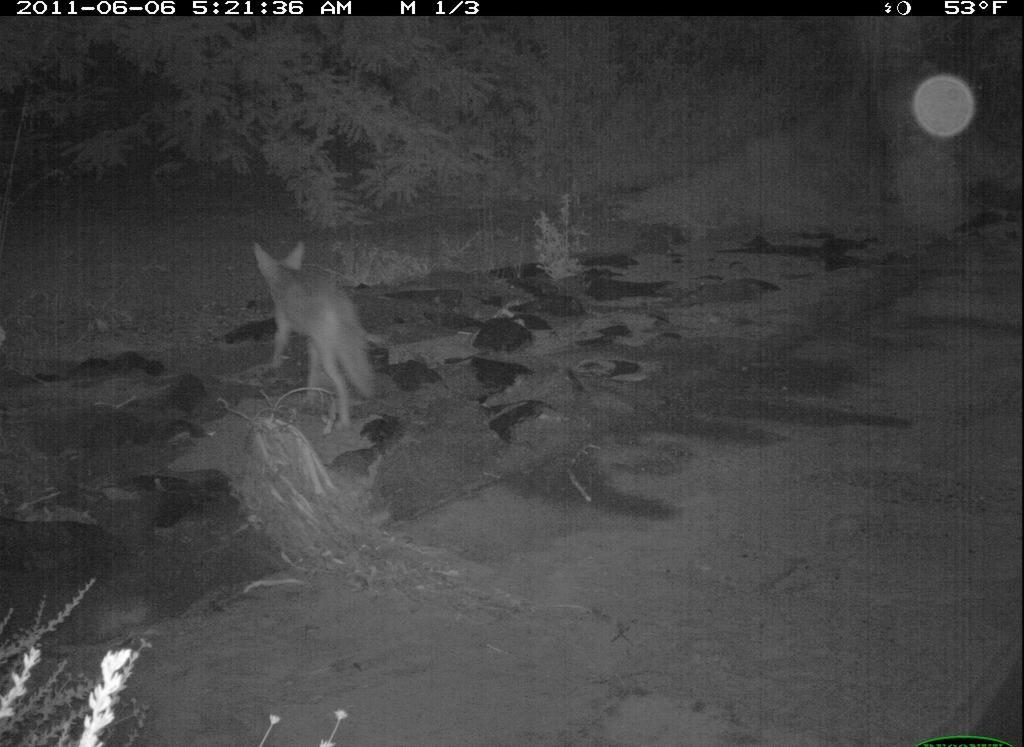coyote: (245, 235, 381, 432)
